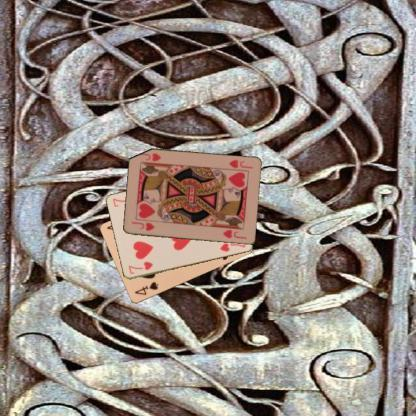4s: (132, 280, 160, 296)
7h: (126, 258, 154, 276)
Jh: (224, 157, 254, 173), (128, 218, 156, 233)
